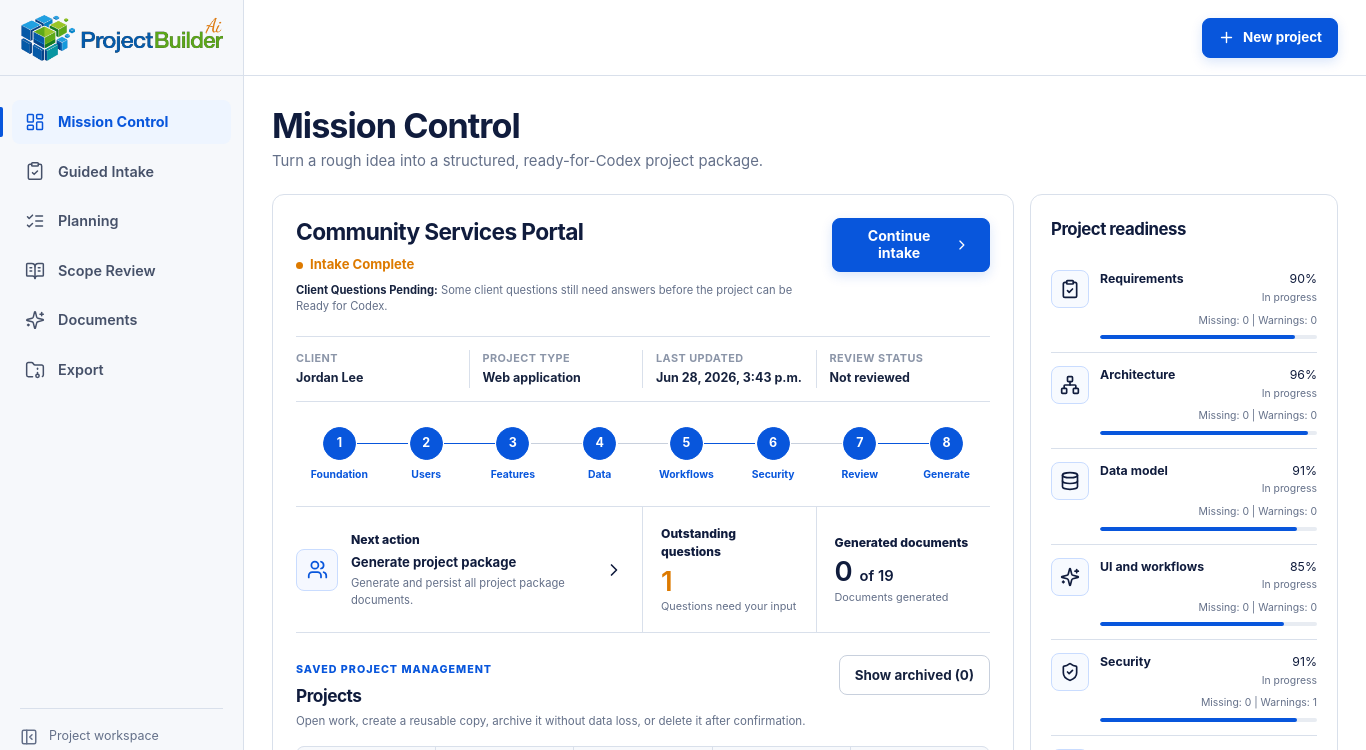
Test case: App - navigation › opens Architecture Planning for an active project and focuses its main content
The image size is (1366, 750).
Click the button "Planning": click(122, 221) [12,199,231,243]
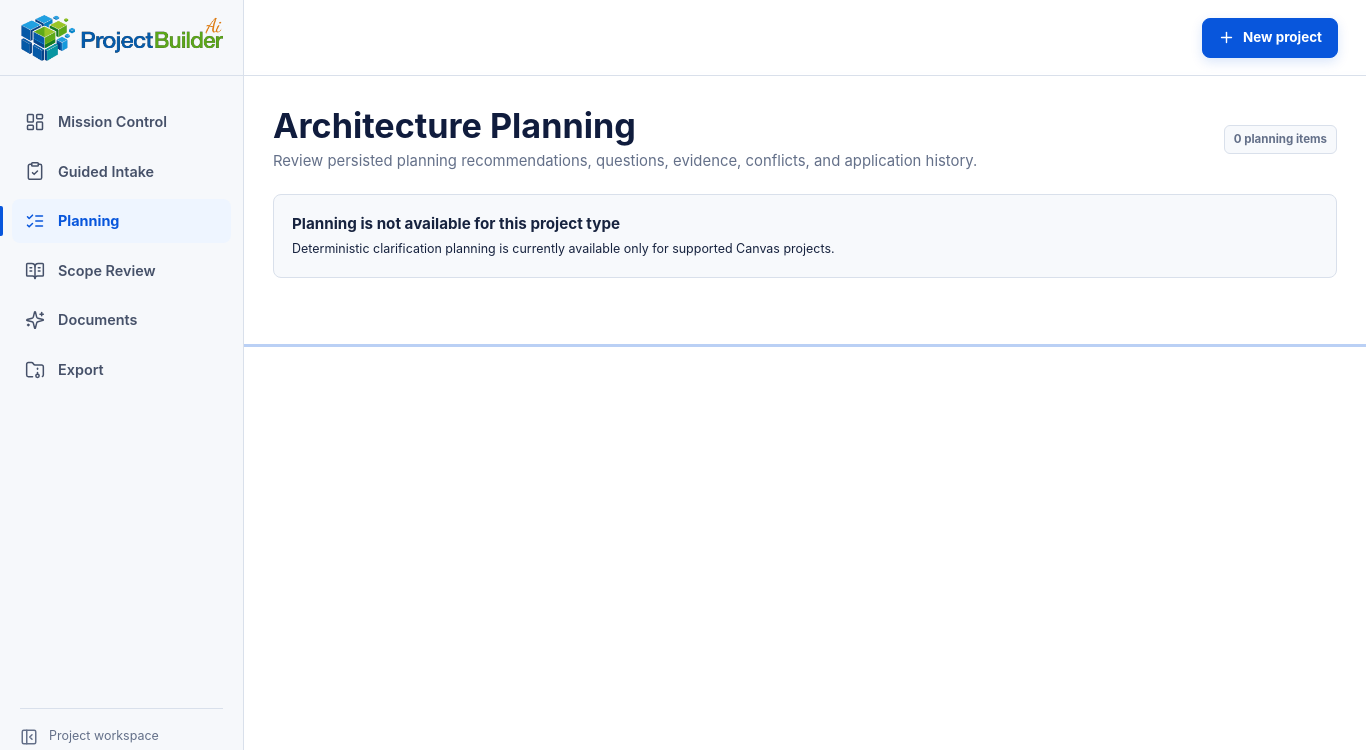
Expected: the heading "Architecture Planning" is shown, [273,105,636,146]
